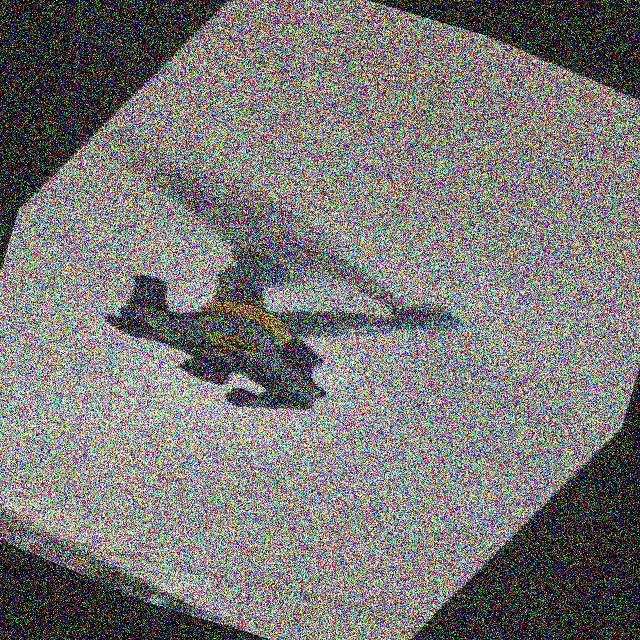Batman: (58, 171, 498, 484)
